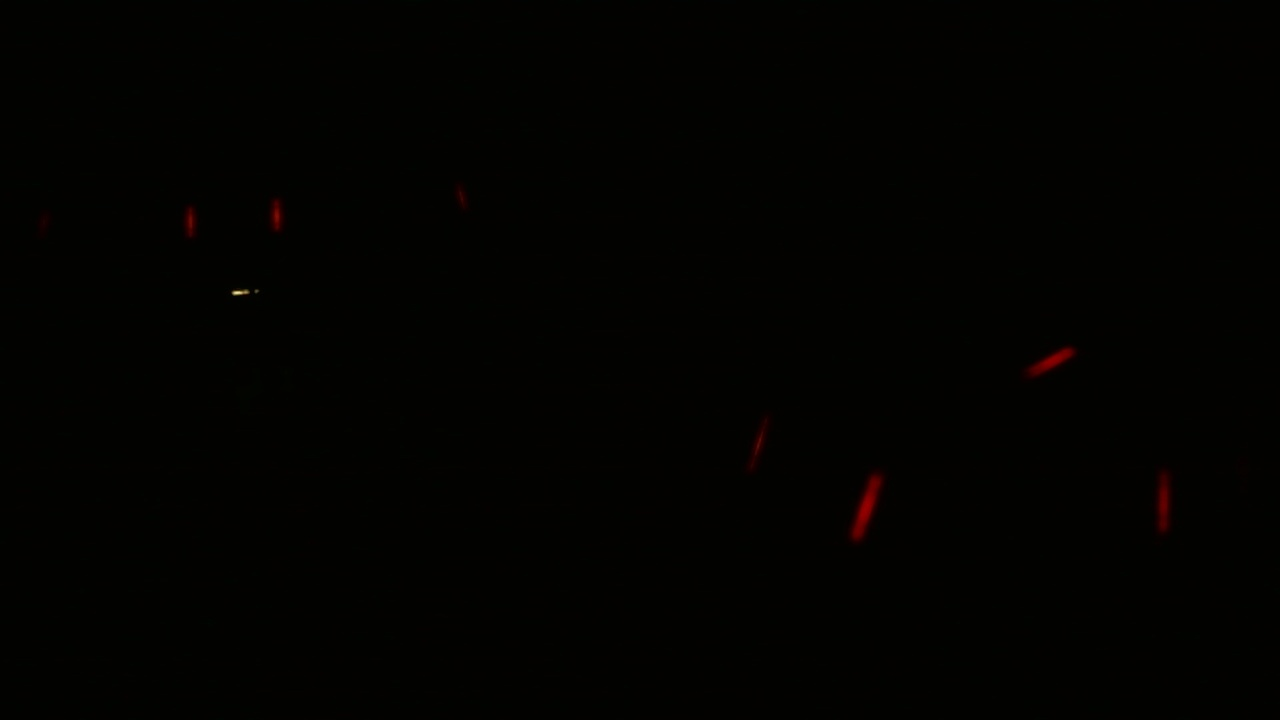pair1: (750, 412, 886, 541), (187, 192, 282, 249)
